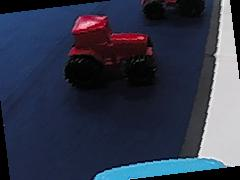Tracktor: (64, 12, 158, 86), (140, 1, 205, 21)
